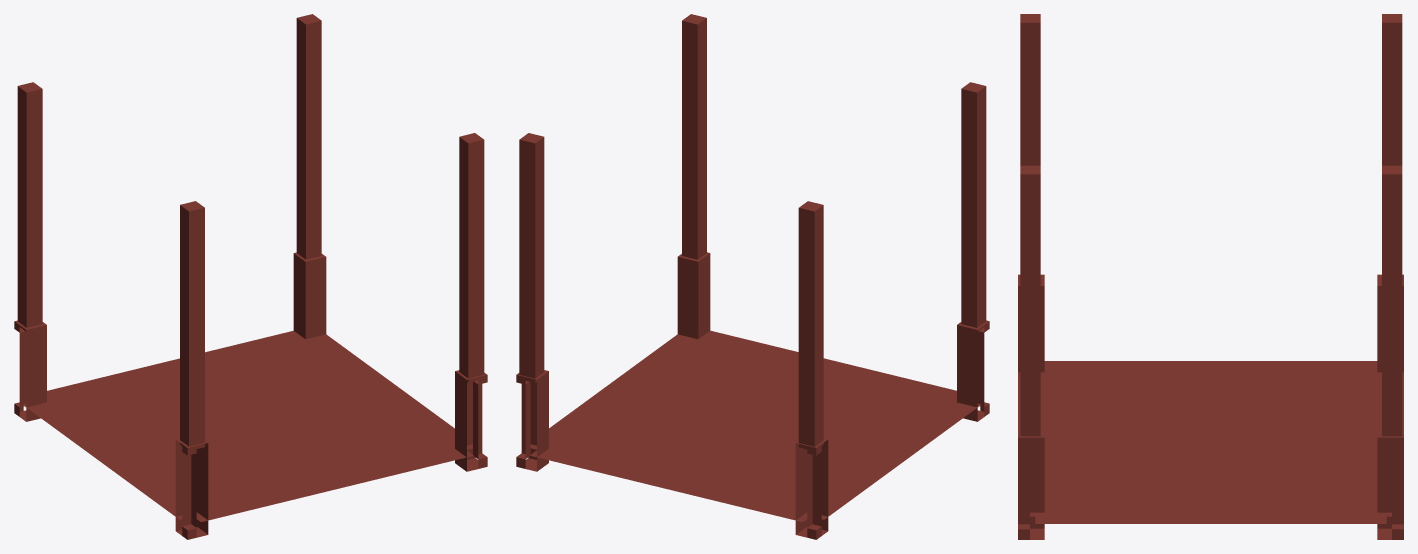
Rendered from Industrial catwalk walk way 5.fbx.
3 renders of one model, left to right at view 1: azimuth 30°, elevation 25°; view 2: azimuth 150°, elevation 25°; view 3: azimuth 270°, elevation 25°, orthographic. The views are drawn at different scales.
Parts seen in each view (by area): view 1: polySurface121; view 2: polySurface121; view 3: polySurface121.
Boxes of the visible parts, box(x1,y1,x2,y2) form: polySurface121: box(14, 14, 487, 539); polySurface121: box(516, 14, 989, 539); polySurface121: box(1018, 14, 1403, 539).
Bounding box in the file's own units: 129 × 134 × 129.
